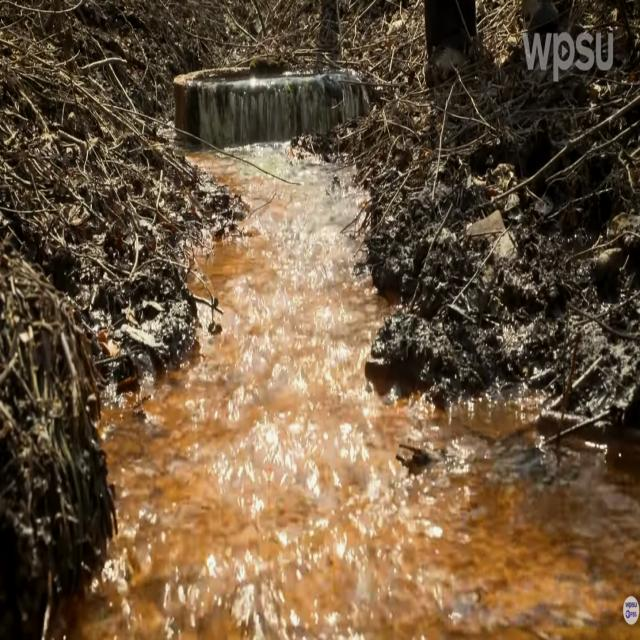yellow_boy: (54, 143, 640, 639)
